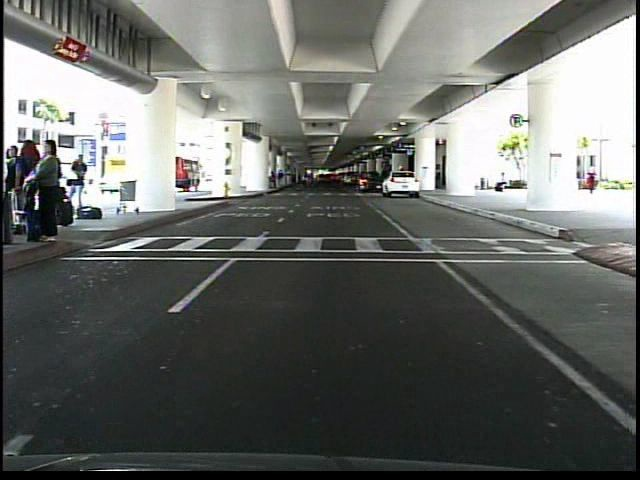person: (67, 149, 90, 211), (580, 163, 603, 203), (492, 167, 509, 199)
